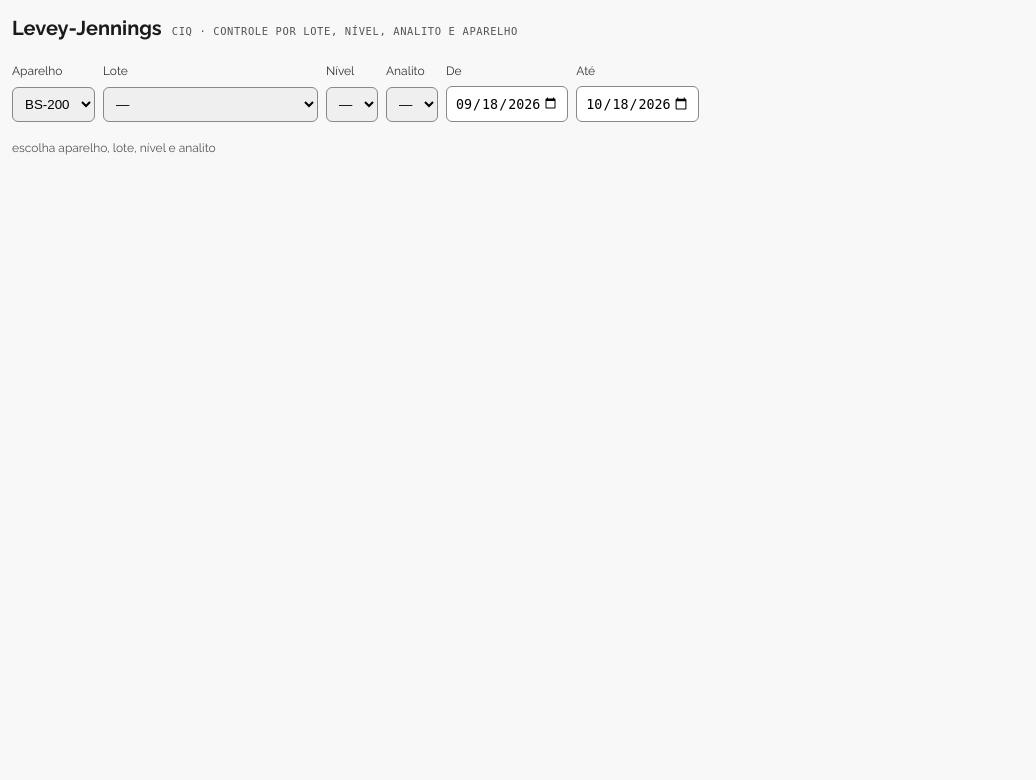
Scenario: LabQcChart › período acima de 366 dias não consulta
Select "L2026A · Controle bioquímico" in the dropdown labelled "Lote": (210,104) [103, 87, 318, 122]
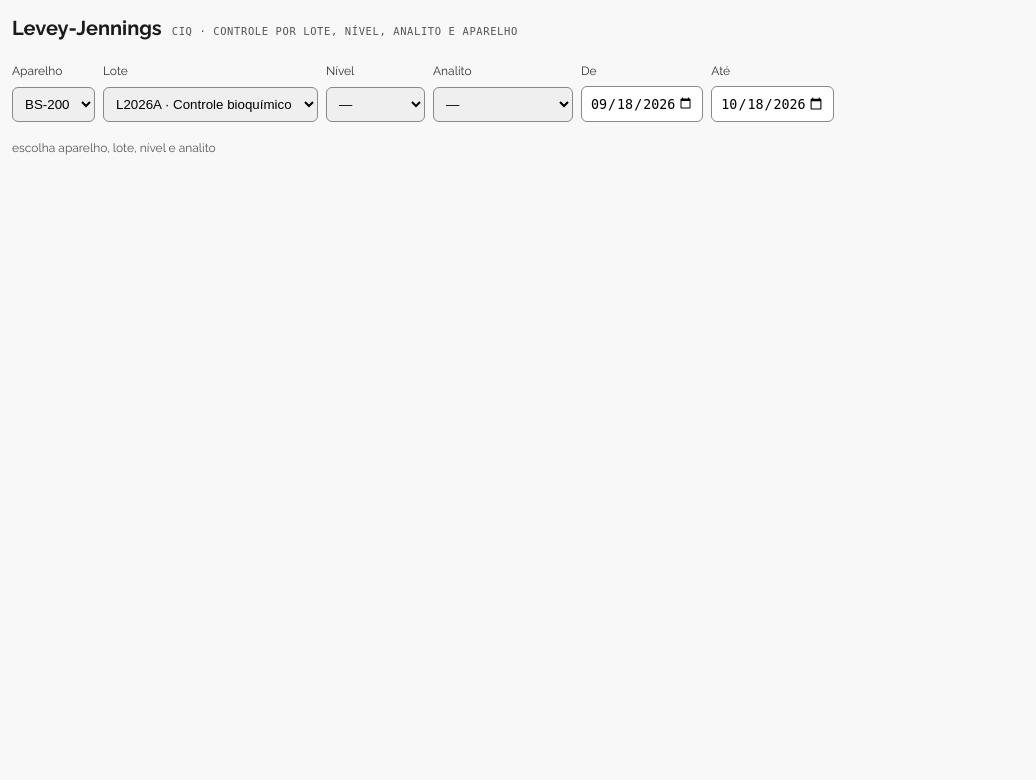
Select "normal" in the dropdown labelled "Nível": (376,104) [326, 87, 425, 122]
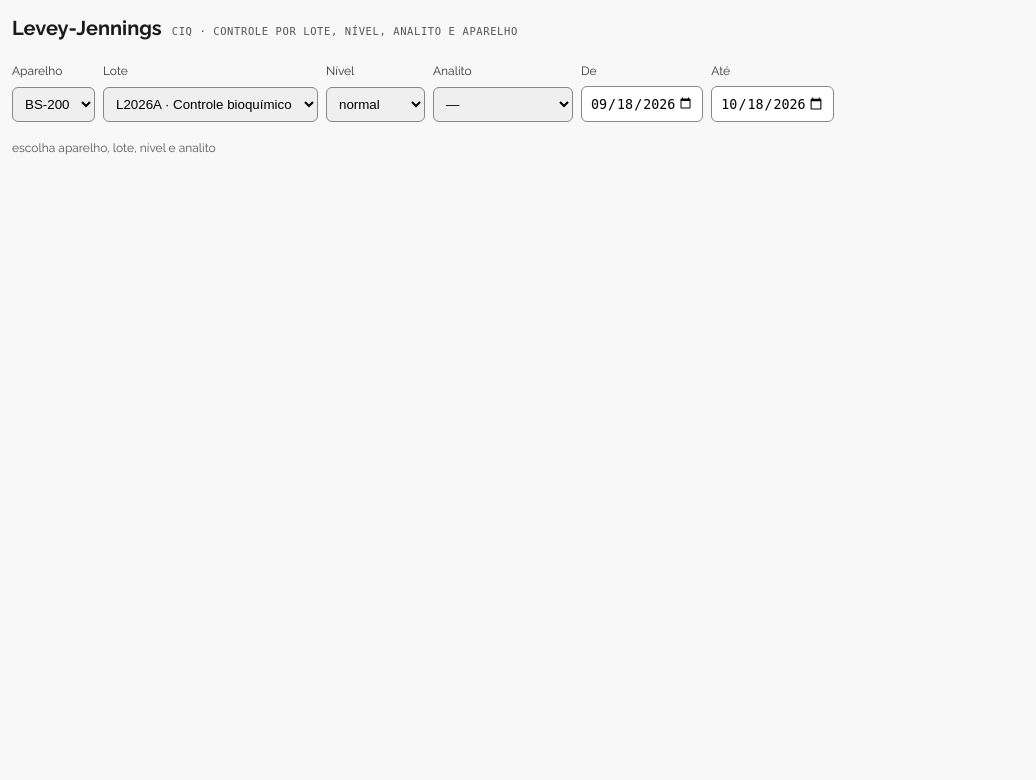
Select "Glicose (Glicose)" in the dropdown labelled "Analito": (503,104) [433, 87, 573, 122]
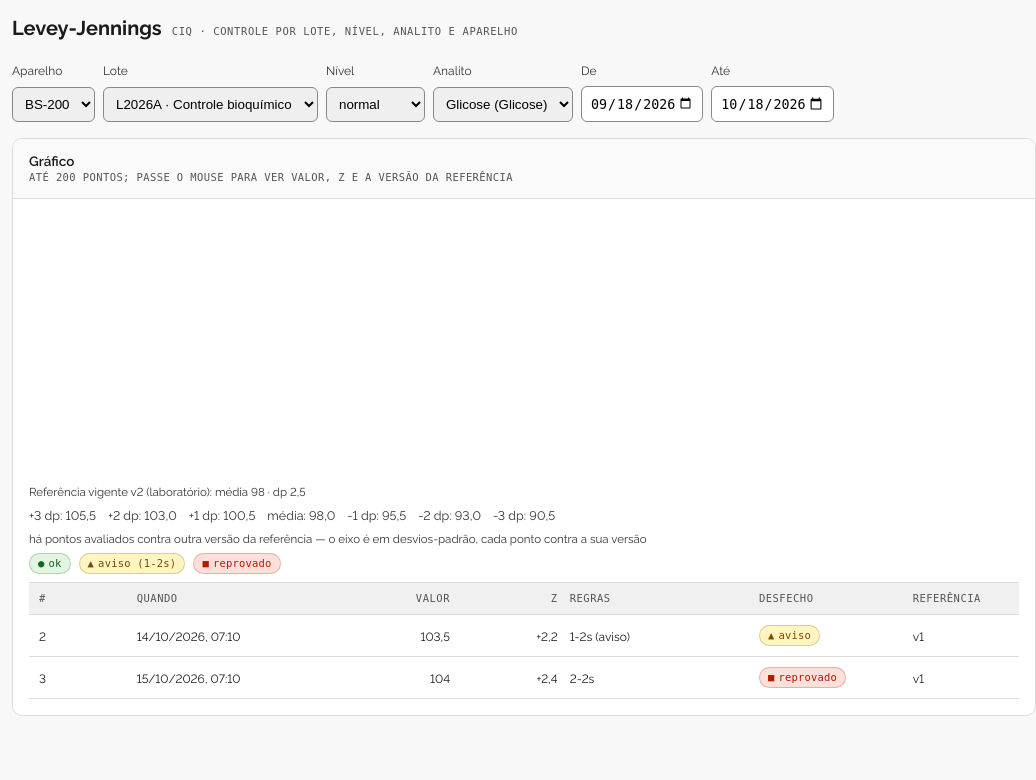
In the date field labelled "De": (642,104) [581, 86, 703, 122], type "2025-10-01"
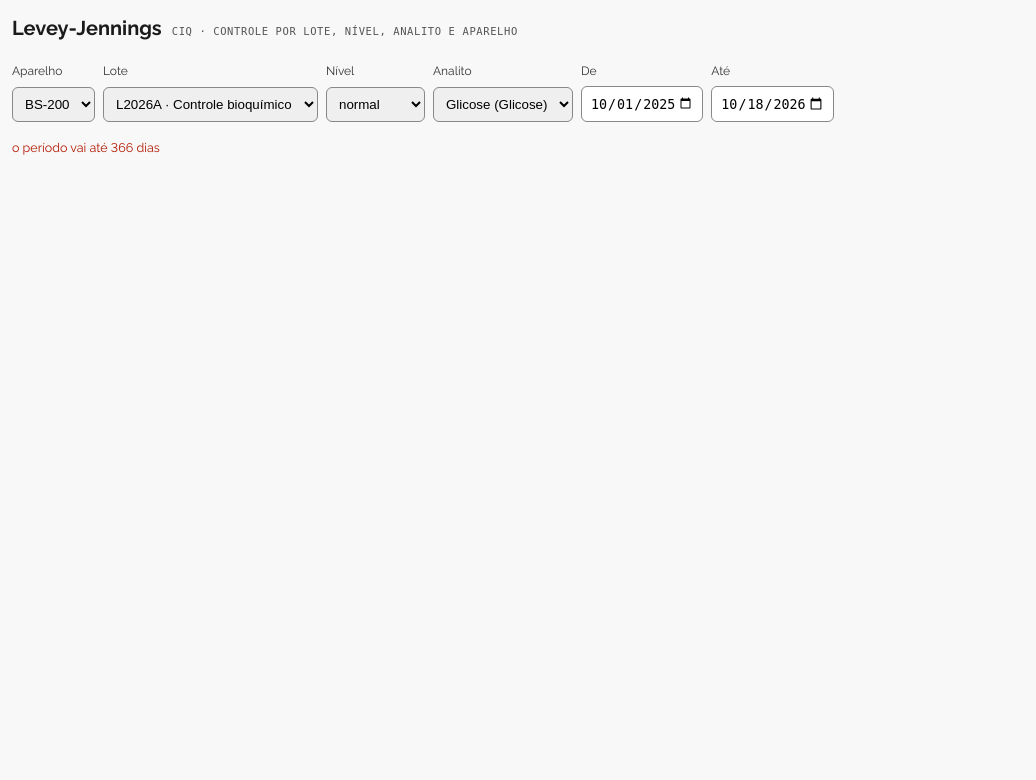
Expected: the message reads "o período vai até 366 dias", [12, 138, 160, 155]
